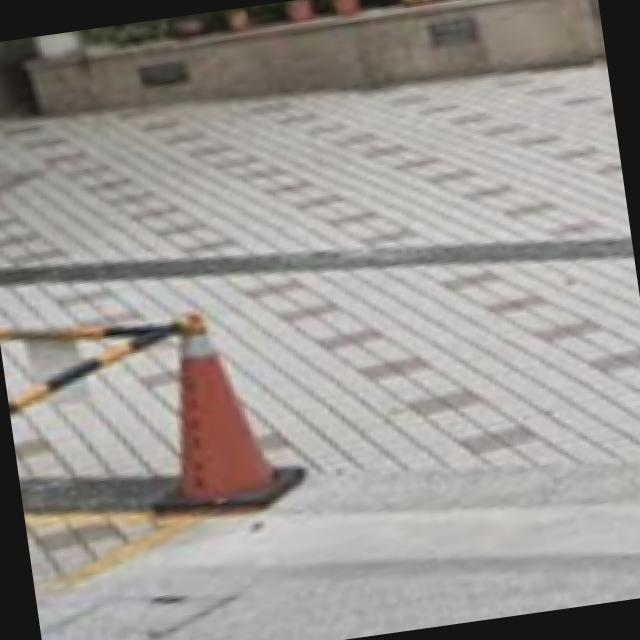cone: (145, 300, 299, 530)
